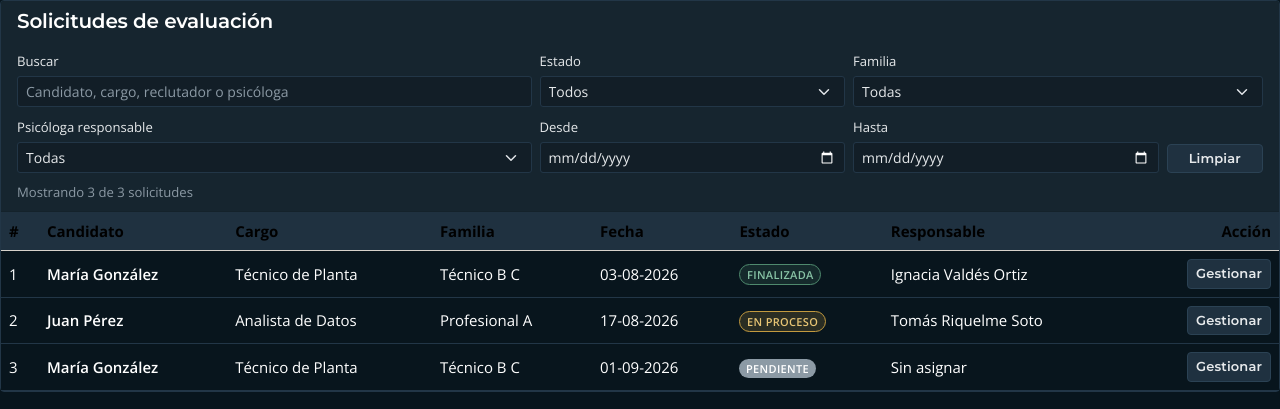
Test: ListaSolicitudes › busca por nombre del candidato sin distinguir tildes
Type "perez" into the search field labelled "Buscar" at (274, 92), box [17, 76, 532, 107]
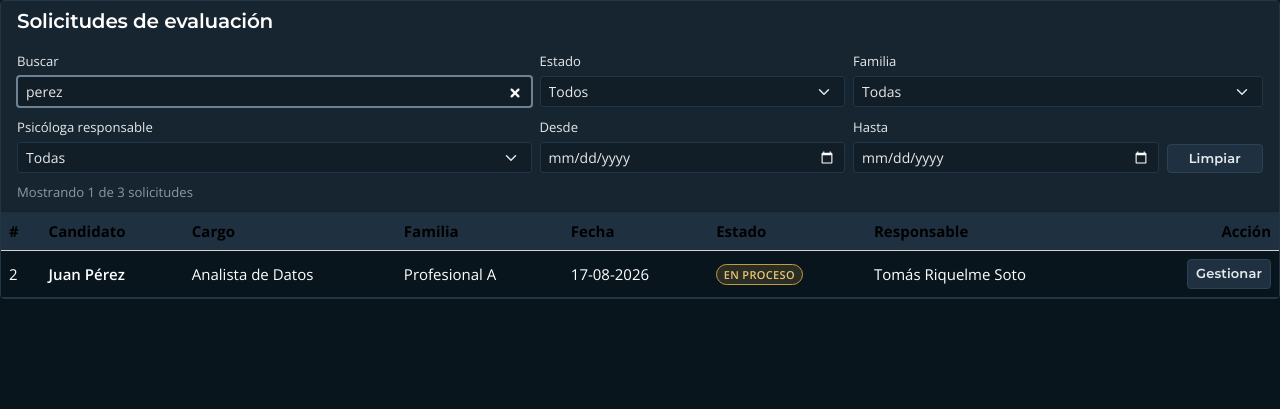
Expected: the text "Mostrando 1 de 3 solicitudes" is shown, [17, 183, 193, 201]
